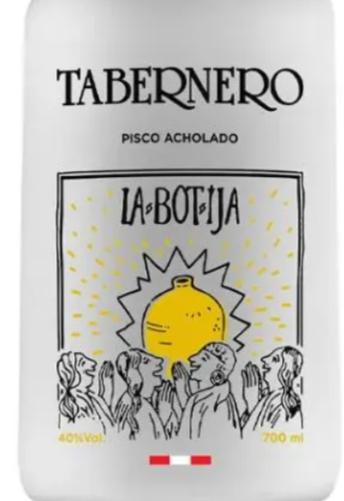brand: (51, 58, 319, 119)
extra_detail: (105, 177, 256, 239)
net_weight: (259, 427, 306, 448)
product_name: (108, 123, 264, 152)
